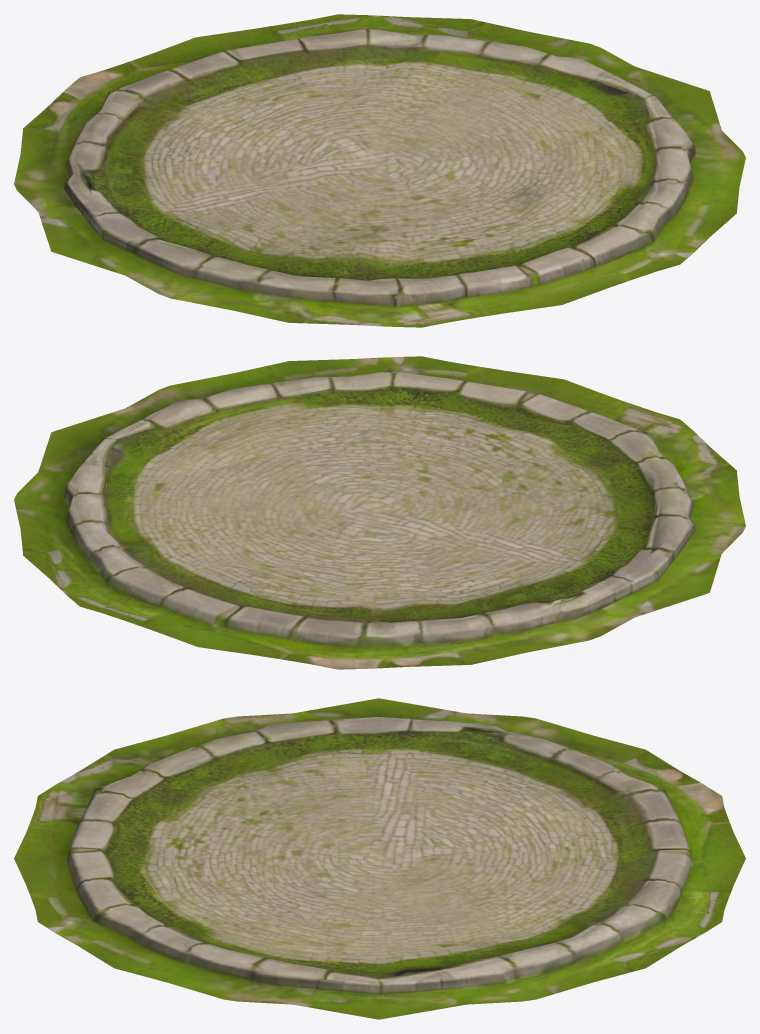
File: town_center.glb
3 views of the same model, one above another, from view 1: azimuth 30°, elevation 25°; view 2: azimuth 150°, elevation 25°; view 3: azimuth 270°, elevation 25° (orthographic).
Parts seen in each view (by area): view 1: town_center; view 2: town_center; view 3: town_center.
Boxes of the visible parts, x1,y1,x2,y2 form: town_center: [14, 14, 745, 327]; town_center: [14, 356, 745, 669]; town_center: [14, 698, 745, 1019].
Bounding box in the file's own units: 4.57 × 0.089 × 4.4.
Materials: 1 (1 with a texture image).
